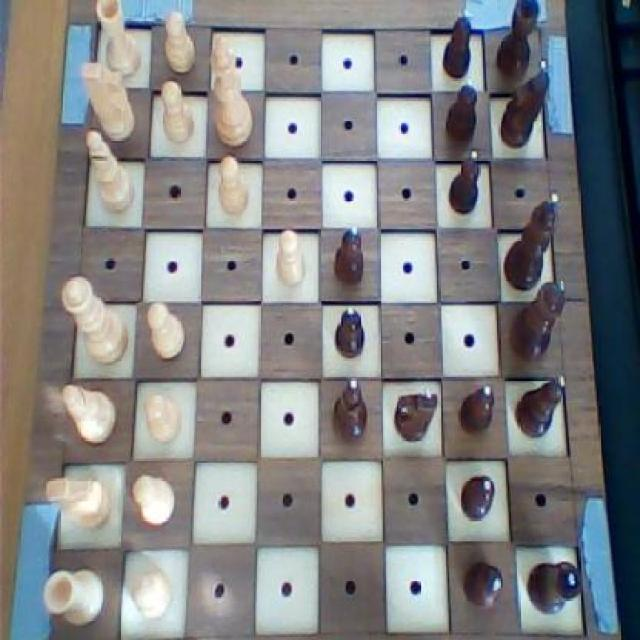bishop: (512, 372, 571, 448), (326, 374, 372, 448)
black-bishop: (502, 189, 564, 296)
black-king: (497, 58, 553, 151), (389, 386, 440, 445)
black-knight: (434, 4, 480, 82), (462, 551, 508, 618), (328, 222, 372, 292), (444, 146, 484, 223), (442, 75, 482, 148), (454, 382, 500, 438), (331, 302, 371, 362)
black-pawn: (508, 276, 572, 366)
black-queen: (494, 0, 546, 83), (521, 555, 587, 620)
black-rook: (80, 123, 138, 219), (56, 379, 121, 453)
white-bishop: (208, 30, 256, 152)
white-king: (78, 59, 138, 148), (42, 470, 114, 538)
white-knight: (143, 296, 192, 372), (129, 465, 180, 533), (155, 75, 198, 148), (126, 562, 175, 622), (158, 6, 198, 79), (140, 386, 185, 447), (214, 152, 252, 223), (271, 228, 310, 292)
white-pawn: (61, 270, 130, 368)
white-queen: (42, 563, 108, 632), (90, 0, 144, 83)
